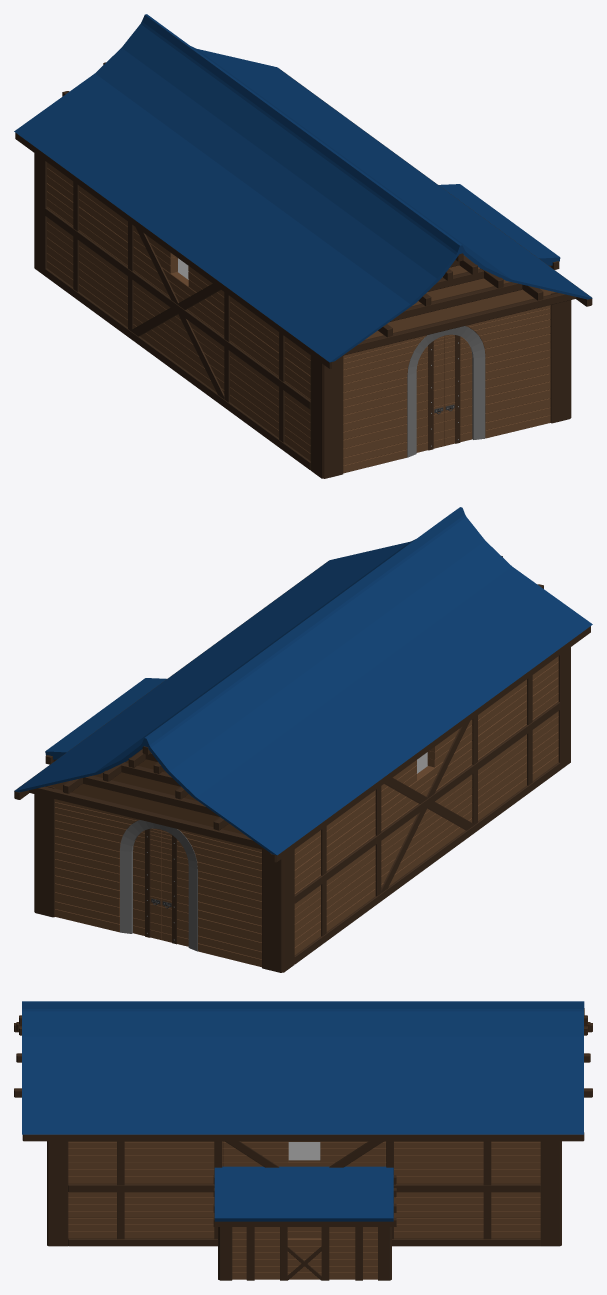
File: Shack 2.fbx
3 views of the same model, one above another, from view 1: azimuth 30°, elevation 25°; view 2: azimuth 150°, elevation 25°; view 3: azimuth 270°, elevation 25° (orthographic). The views are drawn at different scales.
Visible parts, largest first — view 1: Cube.002, Cube, Cube.001, Circle.060, Circle.039, Cube.004, Circle.037; view 2: Cube.002, Cube, Cube.001, Circle.077, Circle.039, Cube.004, Circle.078; view 3: Cube.002, Cube, Cube.001, Cube.004, Cube.003, Cube.008, Plane.
Part boxes in pixels (box(x1,y1,x2,y2)): Cube.002: box(14, 14, 592, 362); Cube: box(46, 162, 550, 473); Cube.001: box(15, 62, 592, 478); Circle.060: box(416, 334, 472, 452); Circle.039: box(407, 326, 485, 457); Cube.004: box(439, 184, 560, 265); Circle.037: box(428, 335, 460, 450); Cube.002: box(14, 507, 592, 855); Cube: box(55, 656, 558, 967); Cube.001: box(14, 556, 590, 972); Circle.077: box(133, 828, 188, 946); Circle.039: box(120, 820, 197, 951); Cube.004: box(45, 678, 166, 759); Circle.078: box(145, 829, 176, 944); Cube.002: box(22, 1001, 584, 1134); Cube: box(68, 1141, 540, 1238); Cube.001: box(14, 1008, 592, 1246); Cube.004: box(214, 1166, 393, 1221); Cube.003: box(232, 1227, 377, 1279); Cube.008: box(213, 1175, 396, 1280); Plane: box(288, 1142, 320, 1160).
Bounding box in the file's own units: 1189 × 717 × 1975.
